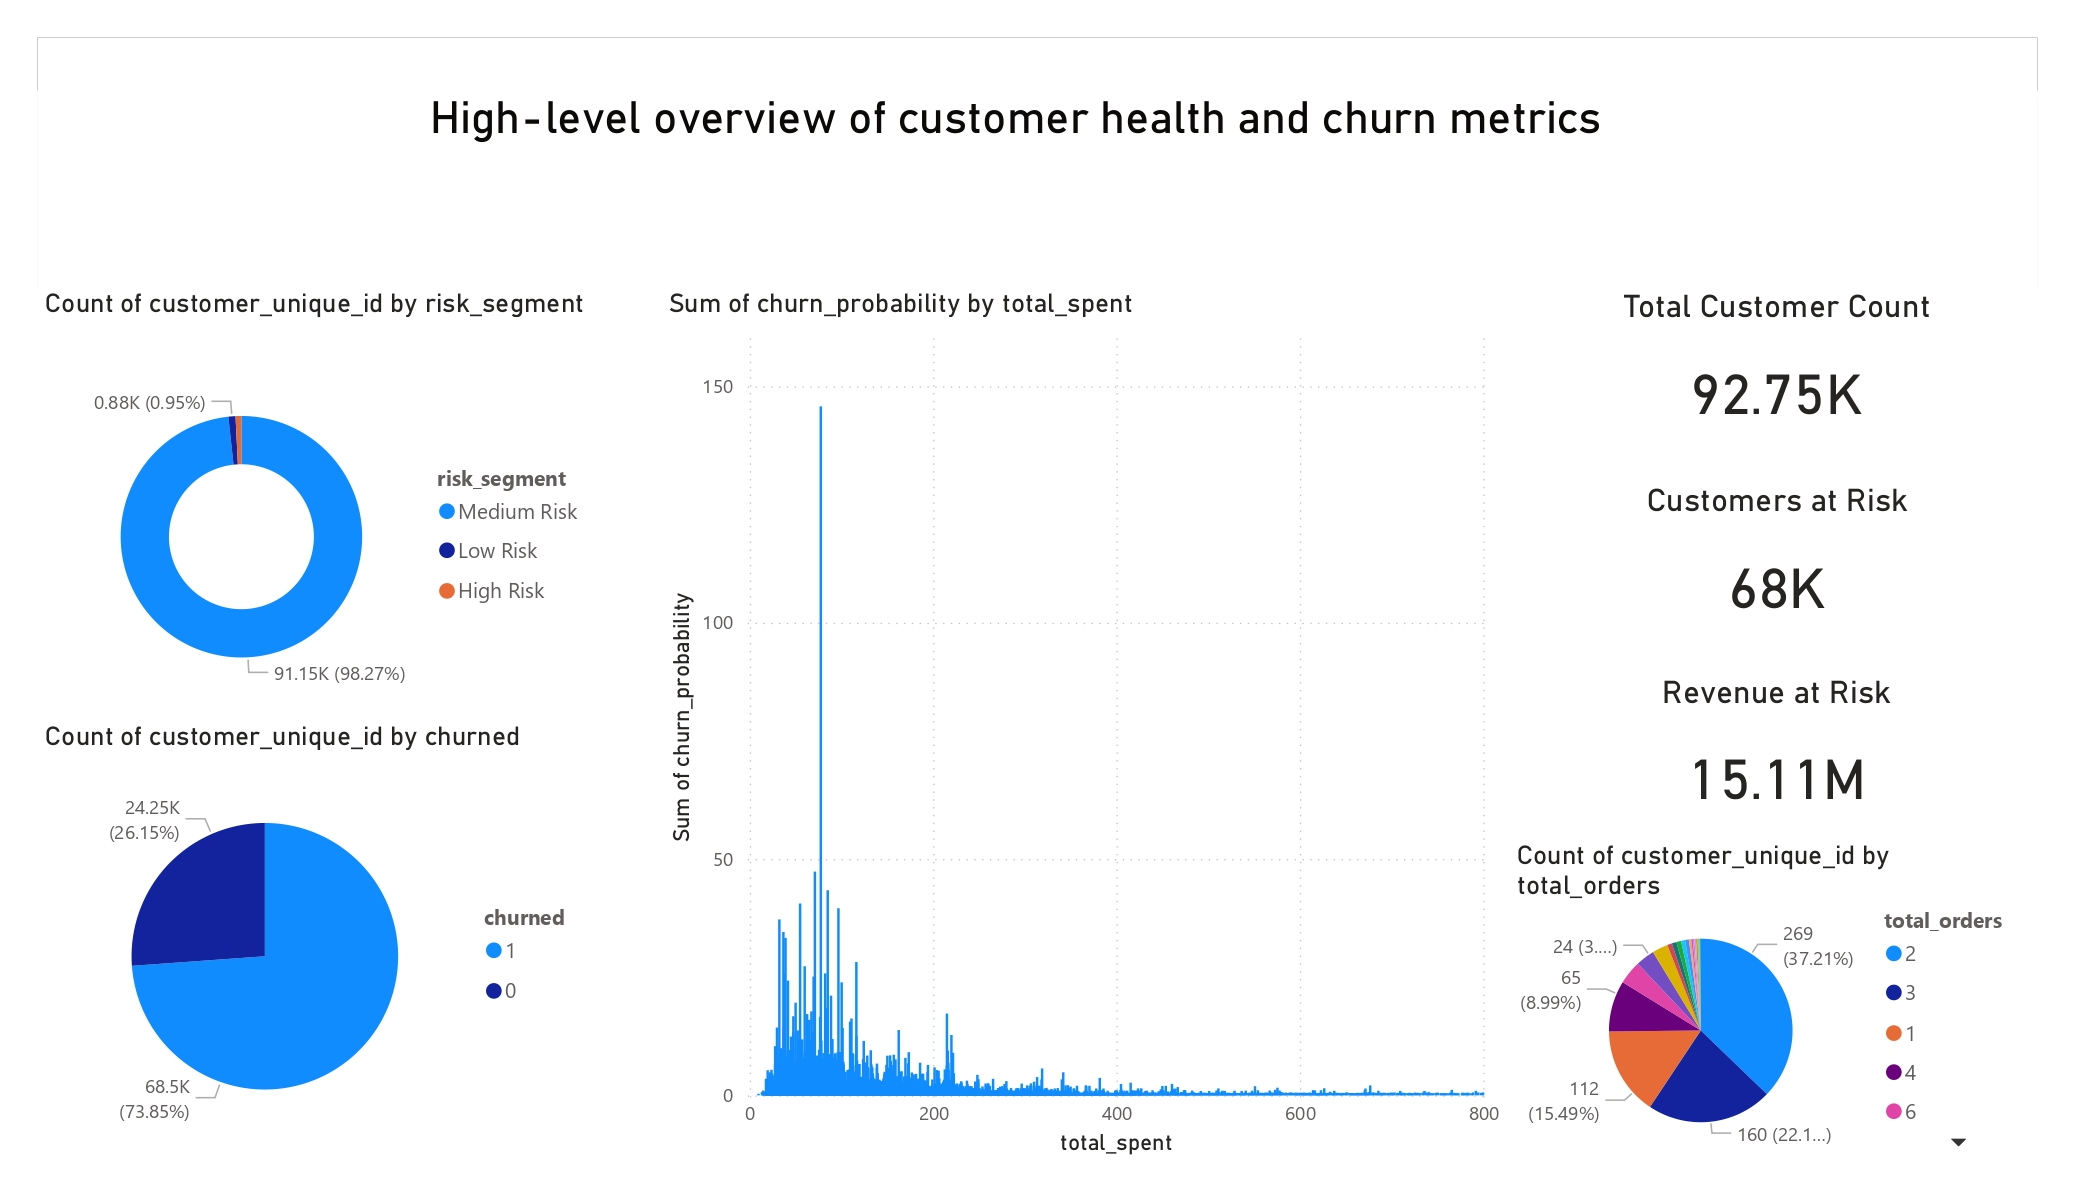

Layout of this report page (visuals, bound fields, positions):
{"tool":"powerbi","page":{"name":"Summary ","canvas":[1280,720],"ordinal":0},"visuals":[{"type":"card","title":"Total Customer Count","fields":{"Values":["Count(ecommerce_churn_processed_data.customer_unique_id)"]},"box":[973.3,160,280,106.7],"z":0},{"type":"card","title":"Customers at Risk","fields":{"Values":["Sum(ecommerce_churn_processed_data.churned)"]},"box":[973.3,284.4,281.1,106.7],"z":1000},{"type":"card","title":"Revenue at Risk","fields":{"Values":["Sum(ecommerce_churn_processed_data.total_spent)"]},"box":[954.4,406.7,317.8,106.7],"z":2000},{"type":"donutChart","fields":{"Category":["ecommerce_churn_processed_data.risk_segment"],"Y":["CountNonNull(ecommerce_churn_processed_data.customer_unique_id)"]},"box":[0,160,360,300],"z":3000},{"type":"pieChart","fields":{"Category":["ecommerce_churn_processed_data.churned"],"Y":["CountNonNull(ecommerce_churn_processed_data.customer_unique_id)"]},"box":[0,436.7,362.2,283.3],"z":4000},{"type":"lineStackedColumnComboChart","fields":{"Category":["ecommerce_churn_processed_data.total_spent"],"Y":["Sum(ecommerce_churn_processed_data.churn_probability)"]},"box":[398.6,160,542.9,560],"z":5000},{"type":"textbox","box":[8.9,28.9,1234.4,47.8],"z":6000},{"type":"pieChart","fields":{"Y":["CountNonNull(ecommerce_churn_processed_data.customer_unique_id)"],"Category":["ecommerce_churn_processed_data.total_orders"]},"box":[942.2,513.3,337.8,206.7],"z":7000}]}

Visuals, with their boxes on the page's 1280x720 design canvas (x1, y1, x2, y2). These are canvas units, not pixel positions in the 2075x1200 screenshot, which may show the page scaled, cropped or inside an application window:
"Total Customer Count" card: 973, 160, 1253, 267
"Customers at Risk" card: 973, 284, 1254, 391
"Revenue at Risk" card: 954, 407, 1272, 513
donutChart - ecommerce_churn_processed_data.risk_segment x CountNonNull(ecommerce_churn_processed_data.customer_unique_id): 0, 160, 360, 460
pieChart - ecommerce_churn_processed_data.churned x CountNonNull(ecommerce_churn_processed_data.customer_unique_id): 0, 437, 362, 720
lineStackedColumnComboChart - ecommerce_churn_processed_data.total_spent x Sum(ecommerce_churn_processed_data.churn_probability): 399, 160, 942, 720
textbox: 9, 29, 1243, 77
pieChart - CountNonNull(ecommerce_churn_processed_data.customer_unique_id) x ecommerce_churn_processed_data.total_orders: 942, 513, 1280, 720
